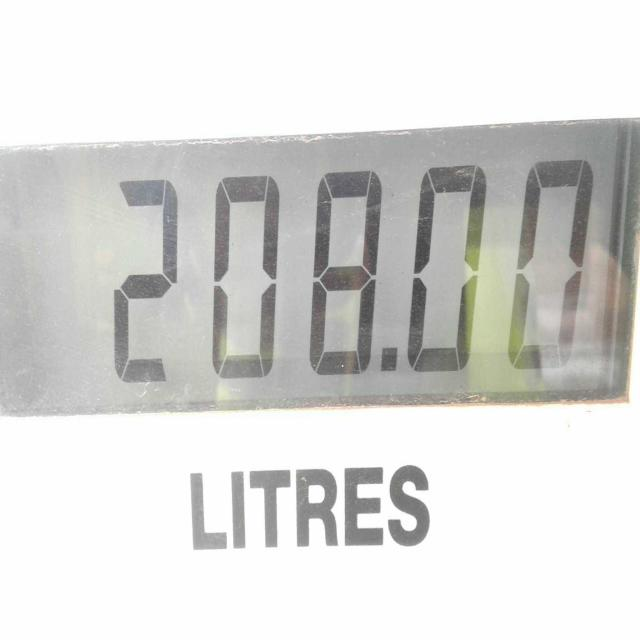.: (381, 338, 400, 371)
0: (512, 163, 589, 364), (212, 174, 284, 385), (411, 166, 480, 374)
2: (114, 183, 179, 390)
8: (308, 170, 382, 383)
